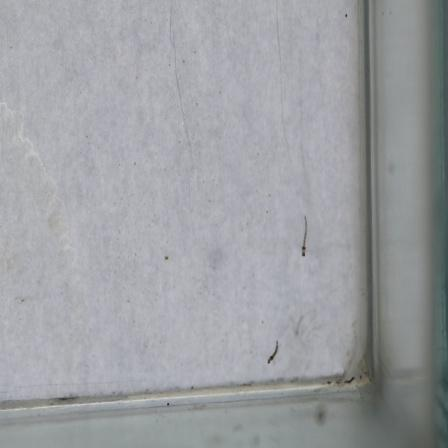Jentik-Nyamuk: (297, 212, 312, 259), (262, 336, 282, 368)
